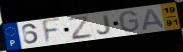6: (21, 23, 40, 46)
A: (141, 8, 167, 31)
F: (41, 17, 63, 46)
G: (119, 10, 141, 33)
J: (96, 13, 112, 36)
Z: (66, 14, 95, 41)
